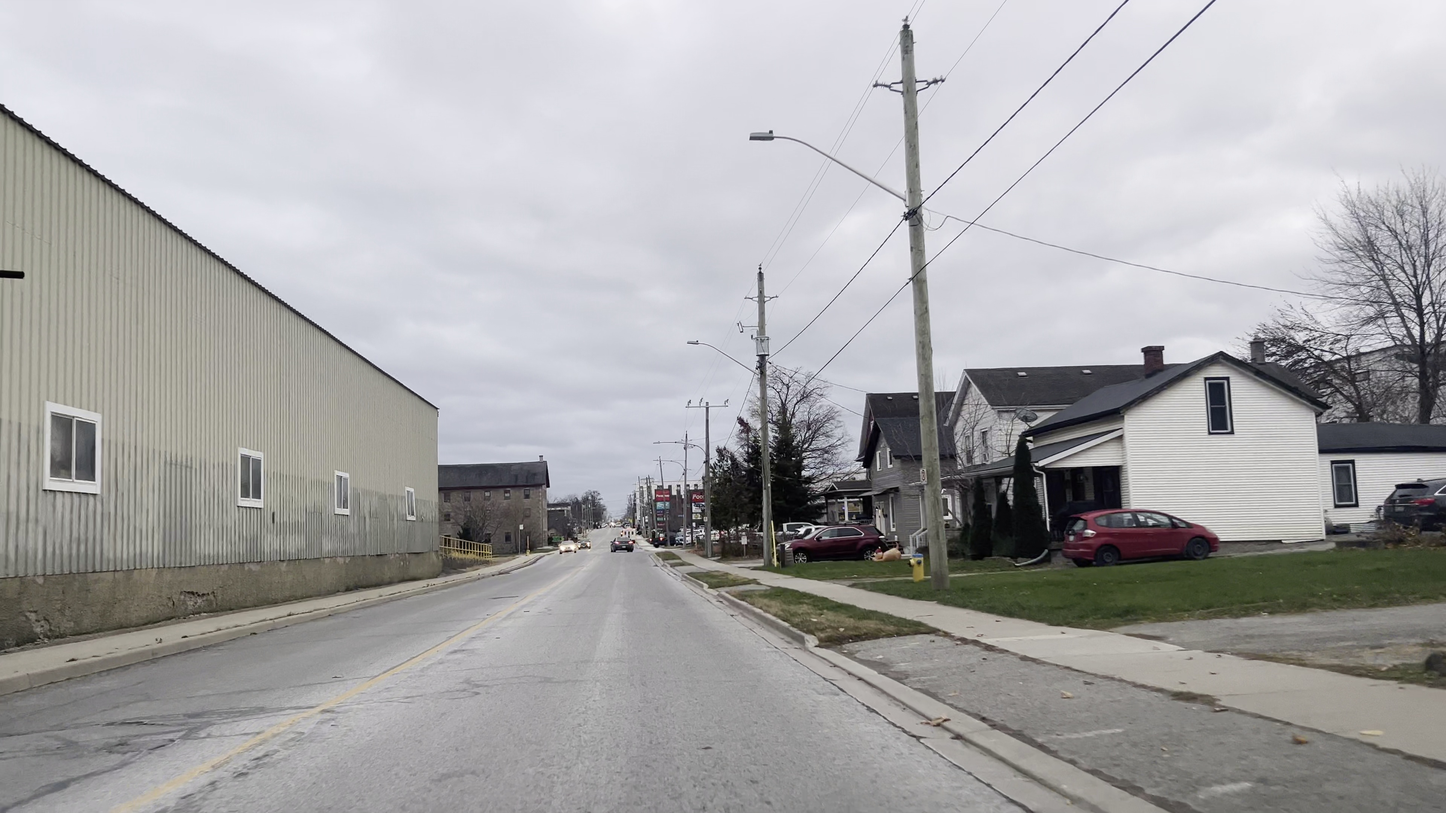cracks: (101, 713, 184, 768), (193, 744, 257, 796)
